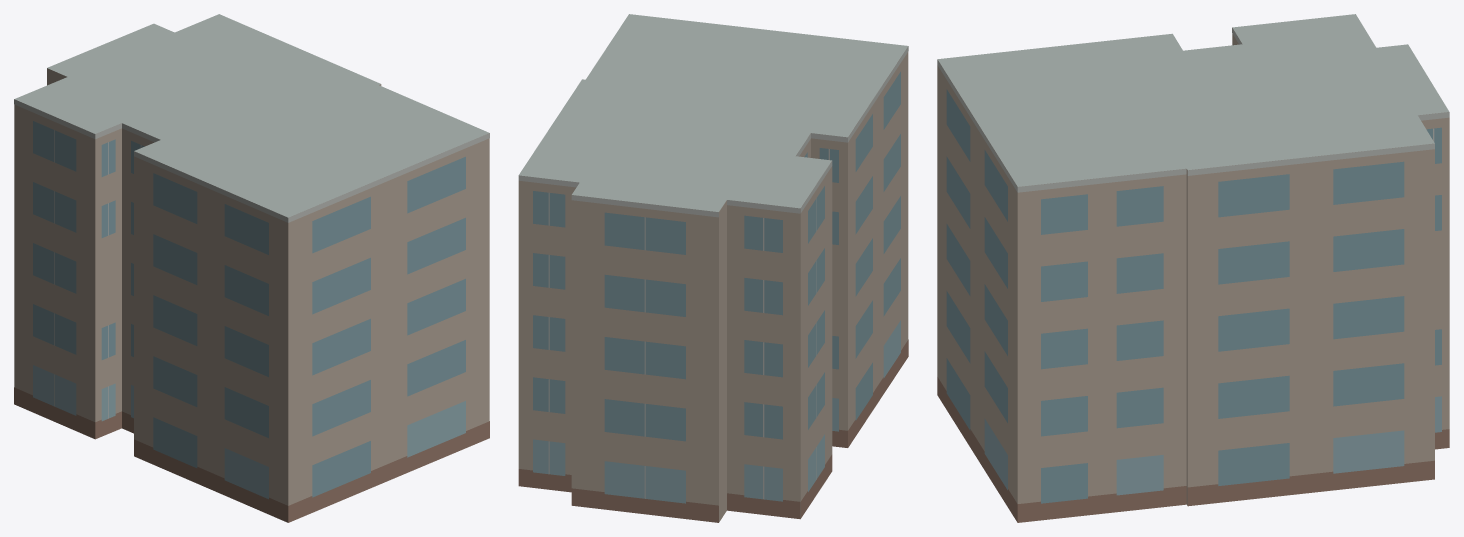
The model's file is survey-upis-32633623.glb.
3 views of the same model, side by side, from view 1: azimuth 30°, elevation 25°; view 2: azimuth 150°, elevation 25°; view 3: azimuth 270°, elevation 25° (orthographic). The views are drawn at different scales.
Visible parts, largest first — view 1: survey-upis-32633623.tmp; view 2: survey-upis-32633623.tmp; view 3: survey-upis-32633623.tmp.
Part boxes in pixels (x1=…): survey-upis-32633623.tmp: x1=14, y1=14, x2=489, y2=522; survey-upis-32633623.tmp: x1=518, y1=14, x2=908, y2=522; survey-upis-32633623.tmp: x1=937, y1=14, x2=1449, y2=522.
Bounding box in the file's own units: 15.8 × 14.3 × 19.77.
